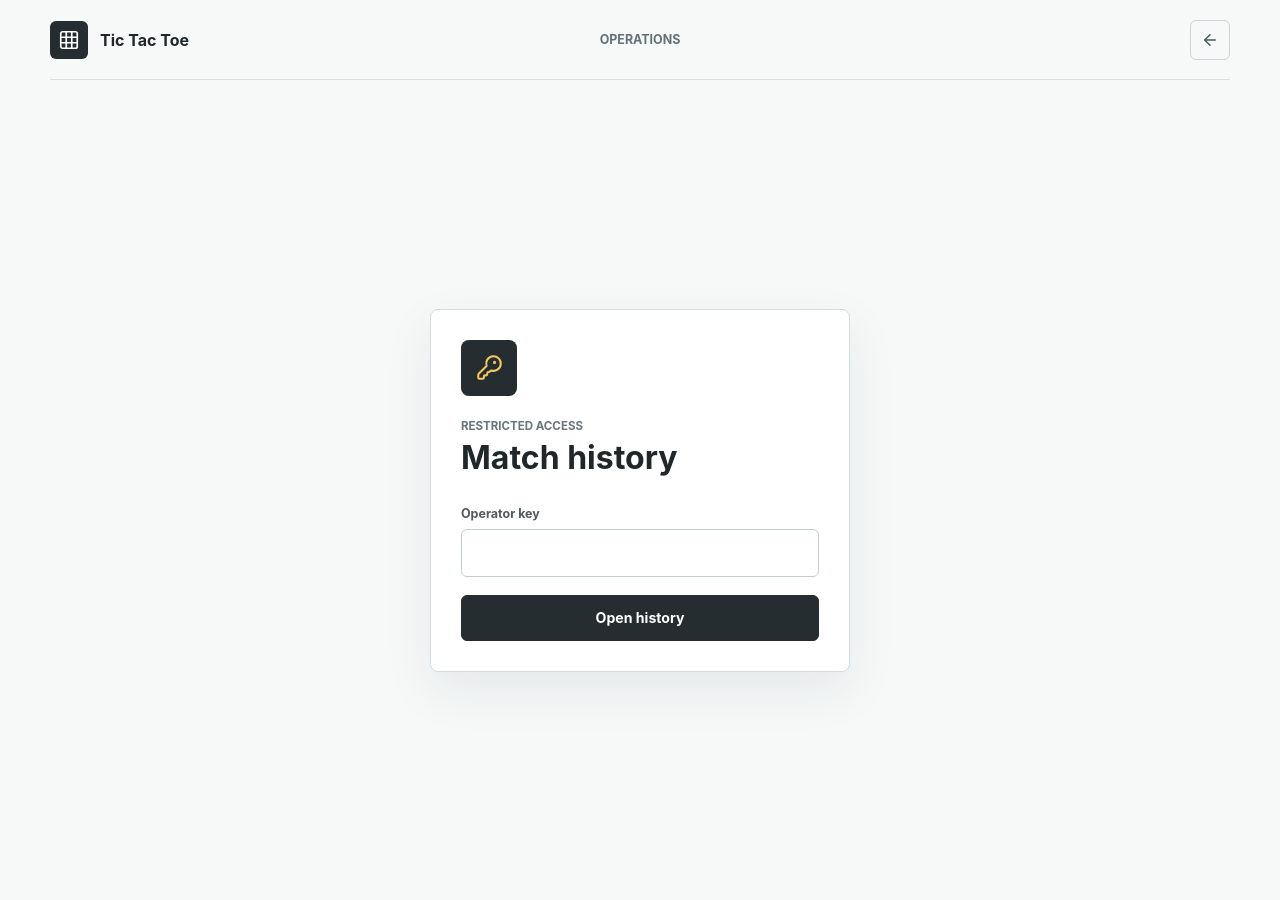
AdminDashboard › authenticates in session storage and renders history
Type "operator-test-key" into the password field labelled "Operator key" at (640, 552), box [461,528,819,576]
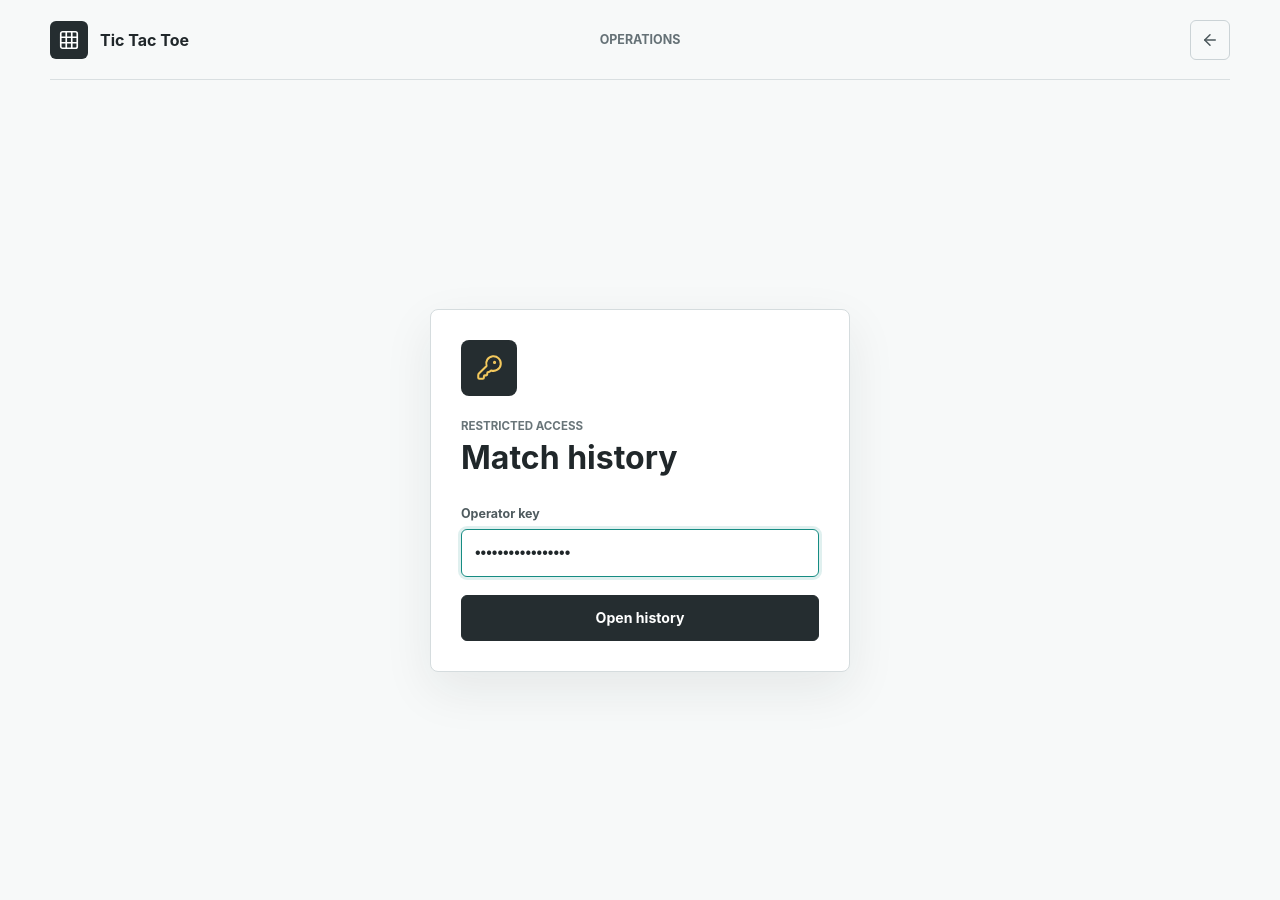
Click the button "Open history" at (640, 618), box [461,594,819,640]
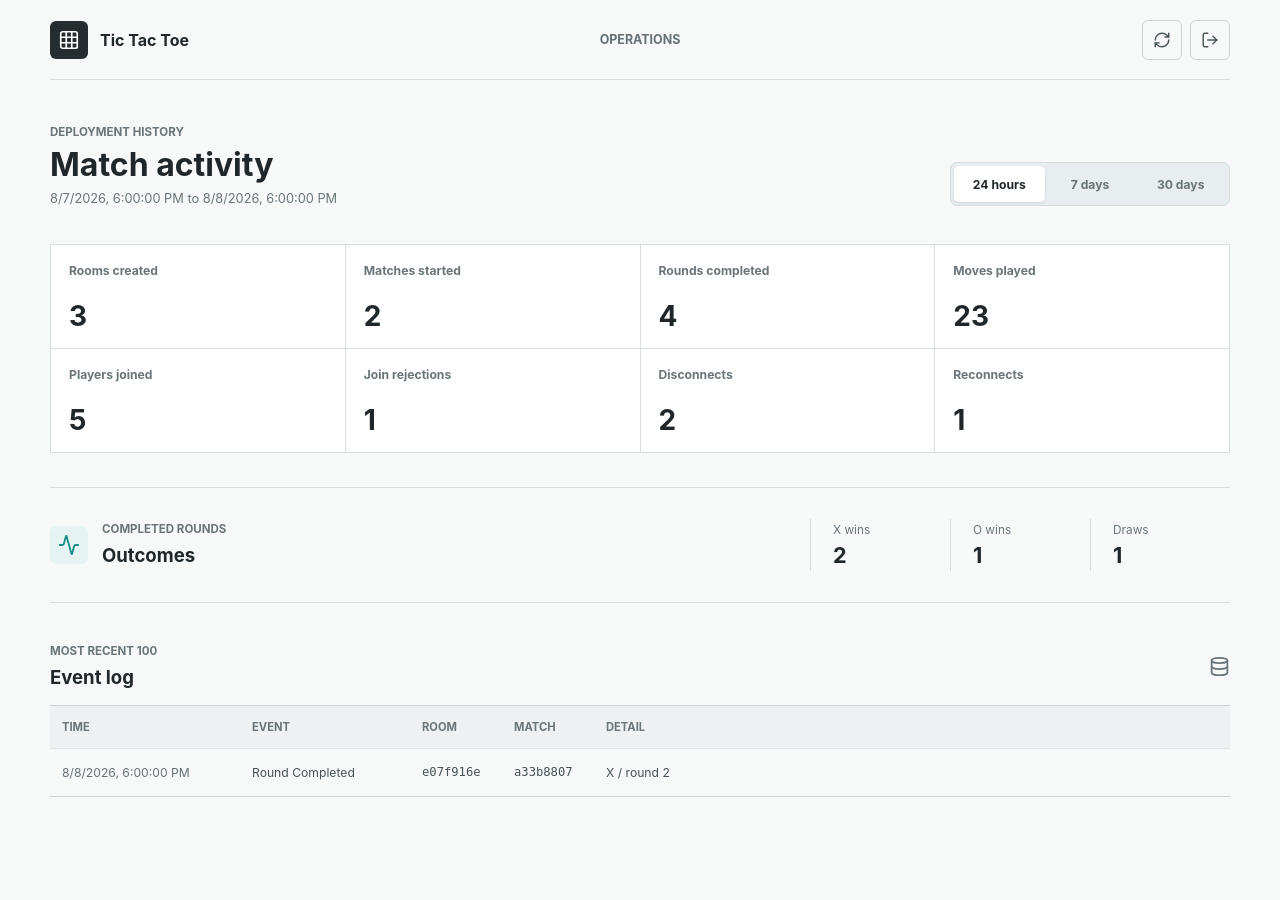
Now the heading "Match activity" is shown, box [50,145,274,184]
Now the text "23" is shown, box [953,299,989,333]
Now the text "Round Completed" is shown, box [240,748,410,796]
